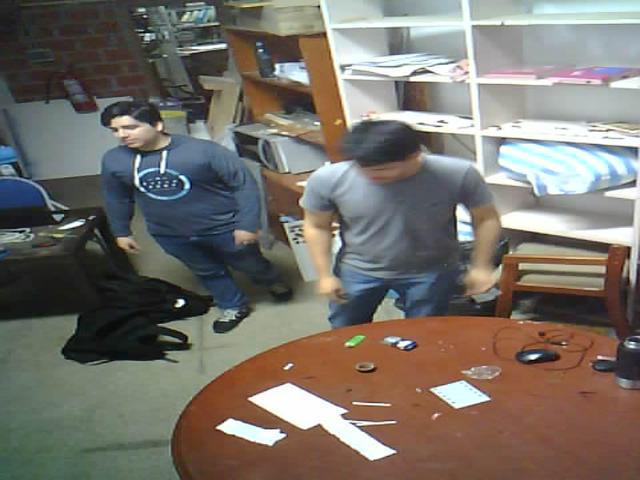person: (272, 111, 527, 356), (69, 77, 302, 342)
